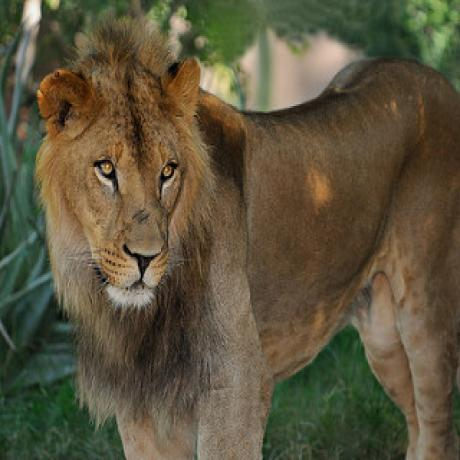Lion: (39, 28, 460, 460)
